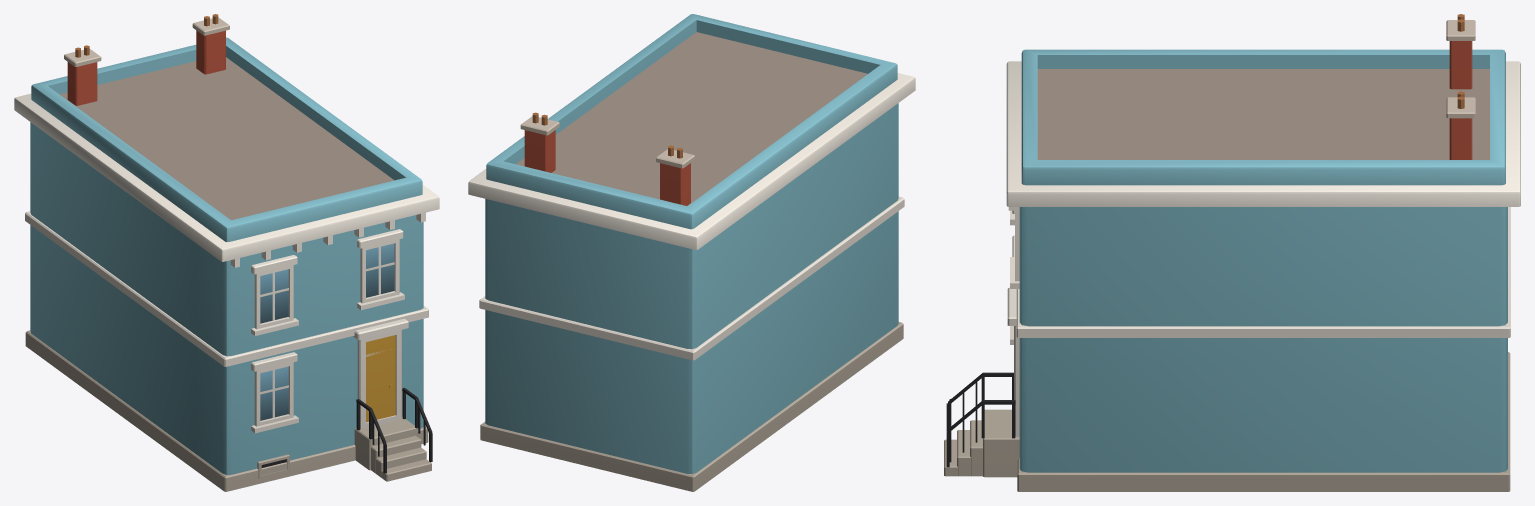
File: beacon_n19.glb
3 views of the same model, side by side, from view 1: azimuth 30°, elevation 25°; view 2: azimuth 150°, elevation 25°; view 3: azimuth 270°, elevation 25° (orthographic). The views are drawn at different scales.
Parts seen in each view (by area): view 1: beacon_n19; view 2: beacon_n19; view 3: beacon_n19.
Part boxes in pixels (<box>): beacon_n19: <box>14,14,439,491</box>; beacon_n19: <box>468,14,915,491</box>; beacon_n19: <box>944,14,1520,491</box>.
Size of the model in its own units: 7.64 by 10.14 by 14.18.
1 material, 1 textured.
